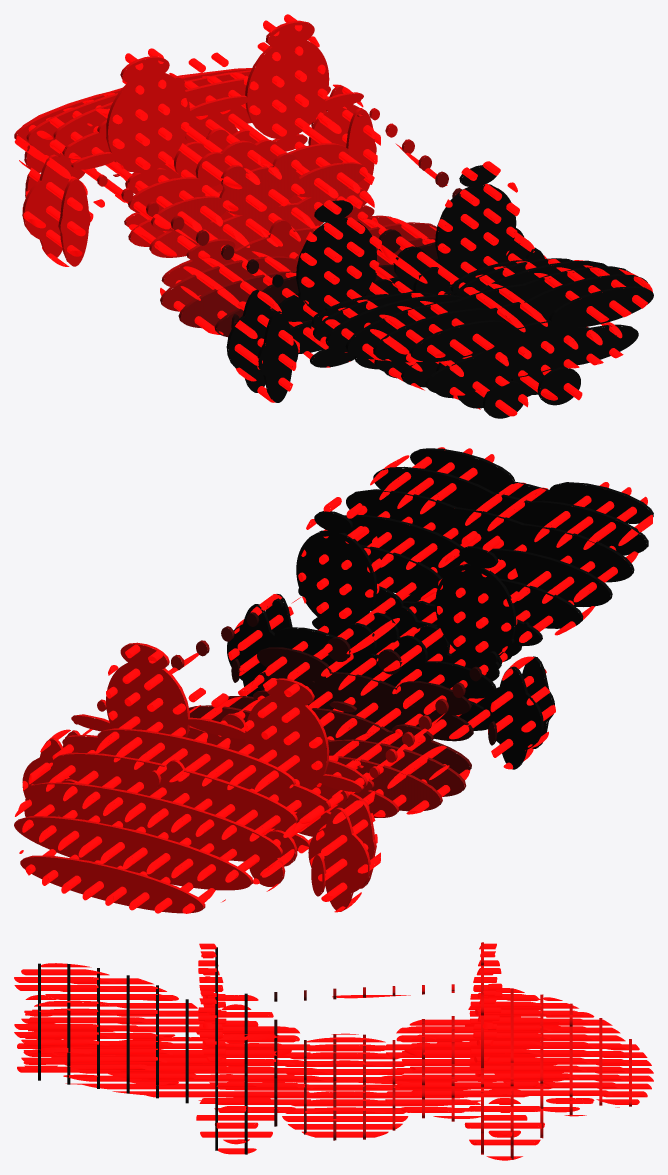
The model's file is skewer-red-v15.glb.
3 renders of one model, top to bottom at view 1: azimuth 30°, elevation 25°; view 2: azimuth 150°, elevation 25°; view 3: azimuth 270°, elevation 25°, orthographic. The views are drawn at different scales.
Parts seen in each view (by area): view 1: skewer-red; view 2: skewer-red; view 3: skewer-red.
Part boxes in pixels (x1,y1,x2,y2): skewer-red: (14, 14, 653, 418); skewer-red: (14, 447, 653, 913); skewer-red: (14, 942, 653, 1160).
Size of the model in its own units: 2.31 by 1.26 by 5.2.
Materials: 2 (1 with a texture image).
